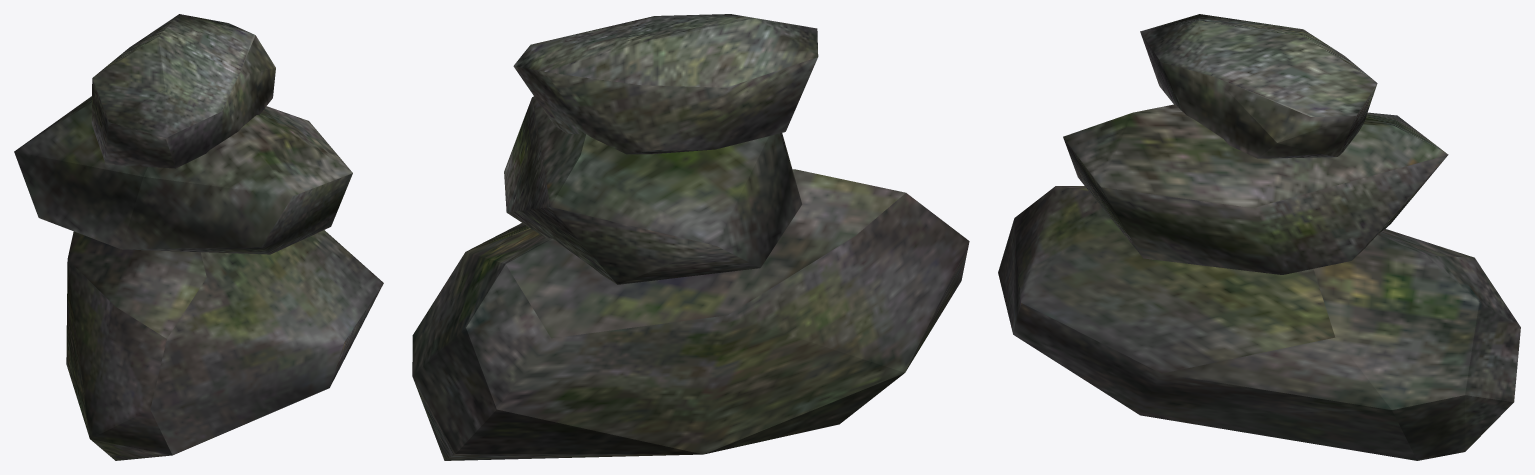
The model's file is bg_anh_mirrorv_seonangdang03_sm_out.FBX.
The picture shows the model from 3 angles, left to right: view 1: azimuth 30°, elevation 25°; view 2: azimuth 150°, elevation 25°; view 3: azimuth 270°, elevation 25°; orthographic projection. The views are drawn at different scales.
Visible parts, largest first — view 1: bg_anh_mirrorv_seonangdang03_sm_out; view 2: bg_anh_mirrorv_seonangdang03_sm_out; view 3: bg_anh_mirrorv_seonangdang03_sm_out.
Part boxes in pixels (box(x1,y1,x2,y2)): bg_anh_mirrorv_seonangdang03_sm_out: box(14, 14, 383, 460); bg_anh_mirrorv_seonangdang03_sm_out: box(412, 14, 969, 460); bg_anh_mirrorv_seonangdang03_sm_out: box(998, 14, 1520, 460).
Bounding box in the file's own units: 41.47 × 45.1 × 56.34.
